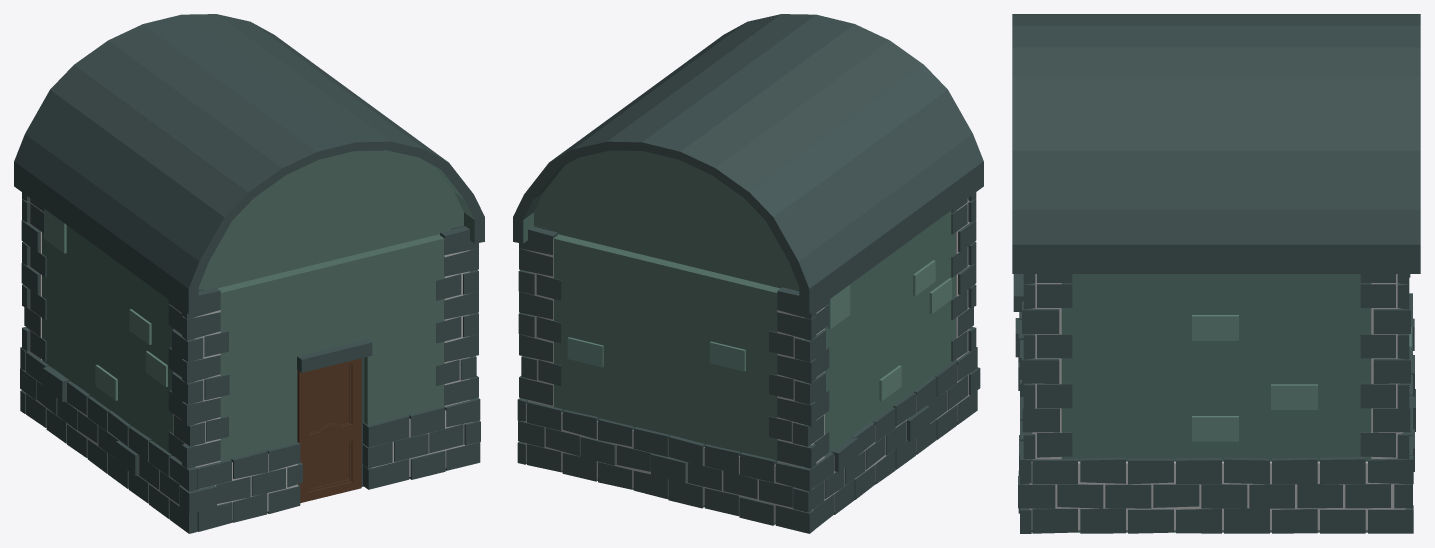
Rendered from 1Story_RoundRoof_Mat.glb.
3 renders of one model, left to right at view 1: azimuth 30°, elevation 25°; view 2: azimuth 150°, elevation 25°; view 3: azimuth 270°, elevation 25°, orthographic. The views are drawn at different scales.
Visible parts, largest first — view 1: 1Story_RoundRoof_Mat; view 2: 1Story_RoundRoof_Mat; view 3: 1Story_RoundRoof_Mat.
Boxes of the visible parts, x1=… form: 1Story_RoundRoof_Mat: x1=14, y1=14, x2=484, y2=533; 1Story_RoundRoof_Mat: x1=513, y1=14, x2=983, y2=533; 1Story_RoundRoof_Mat: x1=1012, y1=14, x2=1420, y2=533.
Size of the model in its own units: 2.09 by 2.38 by 2.13.
